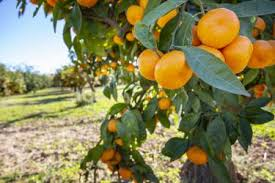orange: (199, 7, 238, 46), (156, 51, 191, 91), (222, 34, 253, 78), (135, 46, 161, 81)
